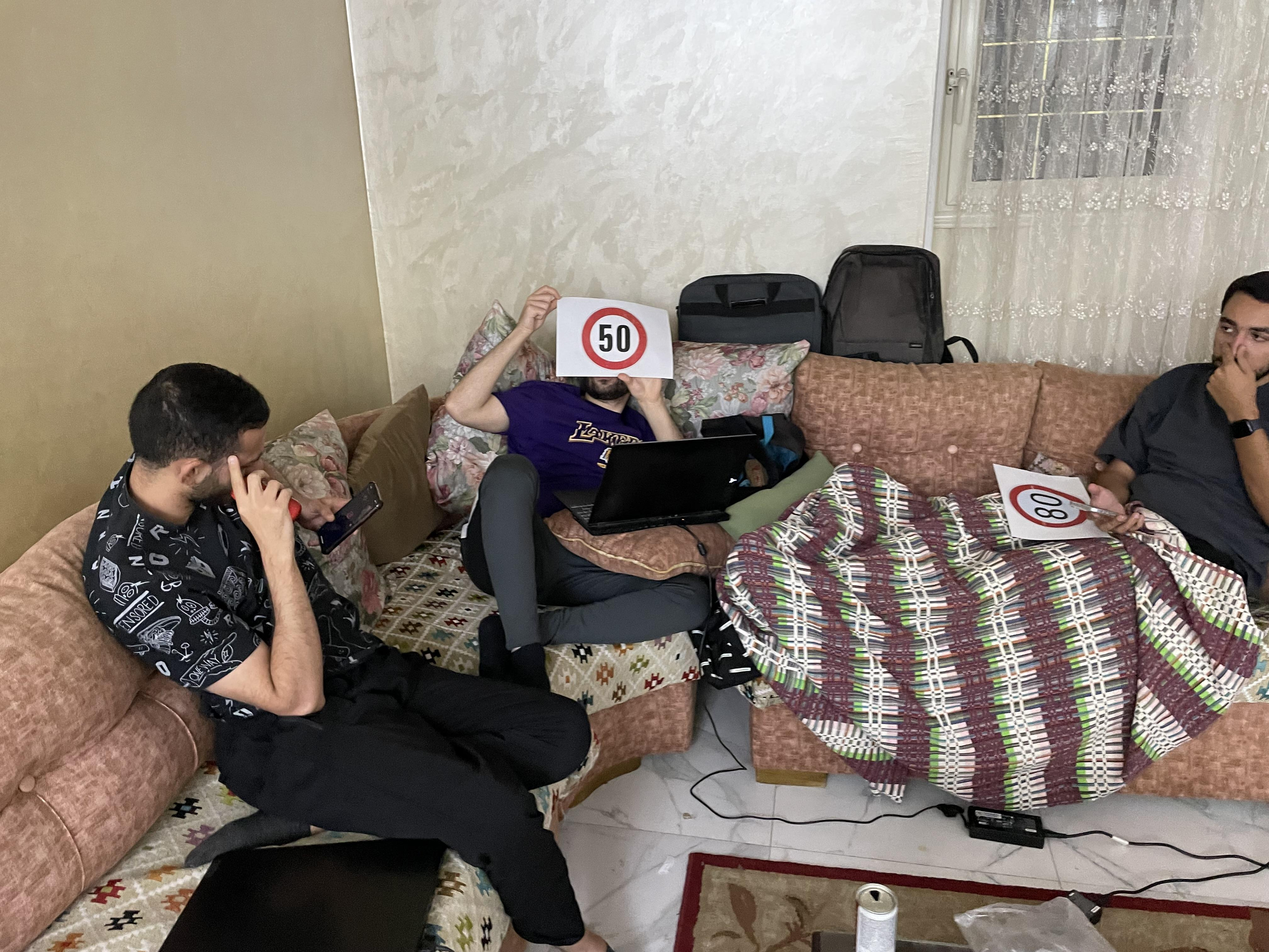50-Speed: (582, 304, 652, 370)
